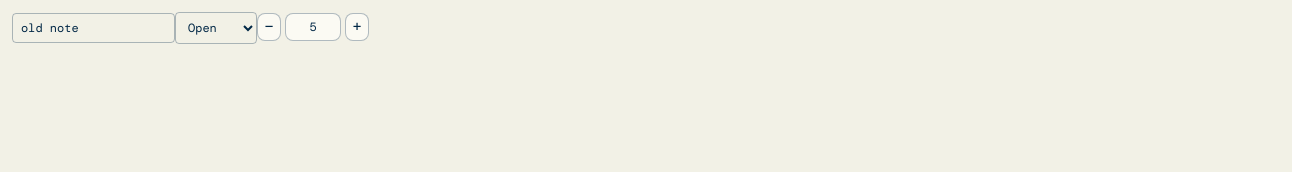
staged edits › holds edits (nothing saved), shows the bar, and saves them all on Save
Replace the text in the 1st field with placeholder "note" with "new note" at (94, 28), box [12,13,175,43]
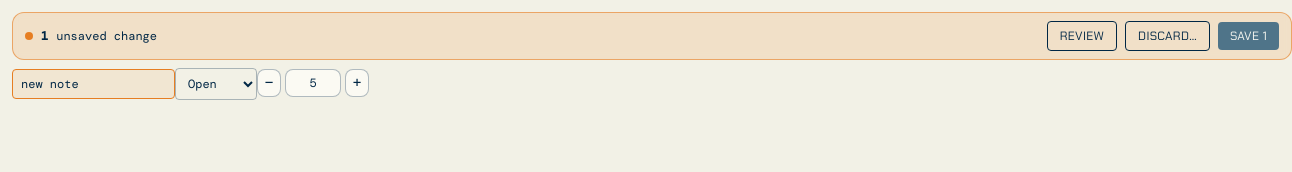
Select "Closed" in the dropdown at (216, 84), box [175,68,257,100]
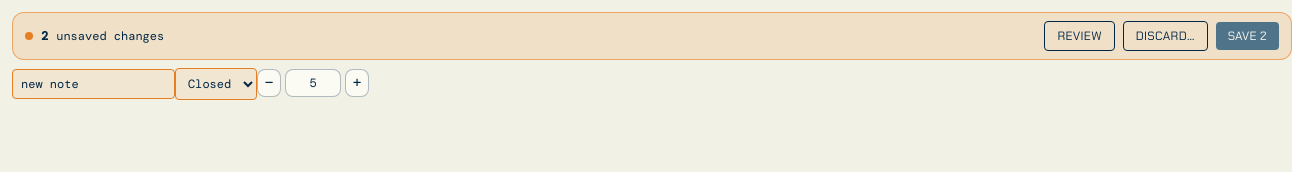
Now the text "2 unsaved changes Review Discard… Save 2" is shown, box [12,12,1291,60]
Now the text "2" is shown, box [41,28,48,44]
Click the button "Save 2" at (1247, 36), box [1216,22,1279,50]
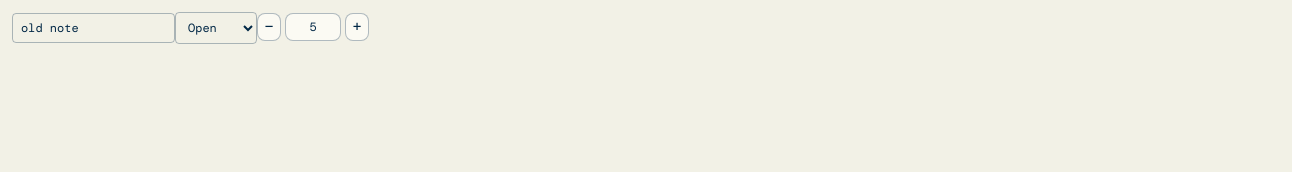
Now the text "unsaved change" is gone
